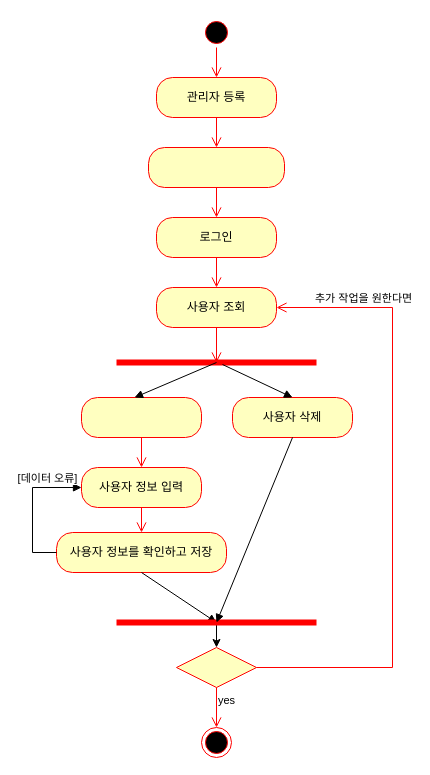
Some shapes in this 430 by 775 pixel diagram are drawn without their labels. The centre of each missing label's shape, as x and y in pixels:
"관리자의 인적사항 입력" goes at pixel 216 167.
"사용자 정보 수정" goes at pixel 141 417.
"종료" goes at pixel 216 667.
